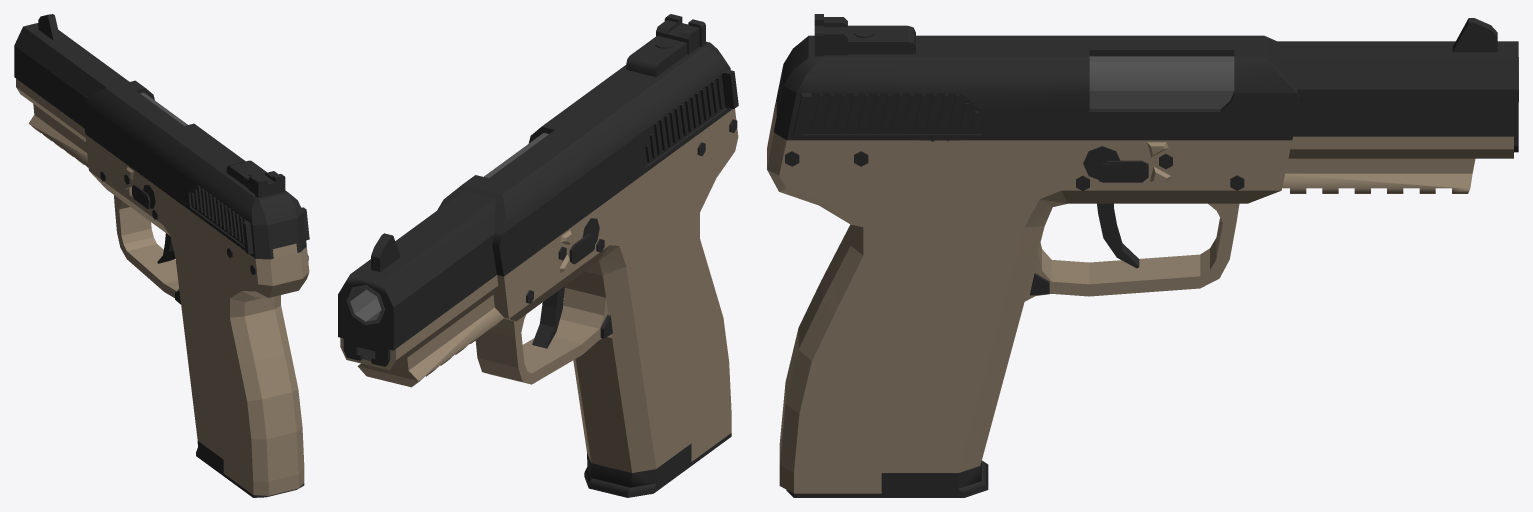
The model's file is original.glb.
3 views of the same model, side by side, from view 1: azimuth 30°, elevation 25°; view 2: azimuth 150°, elevation 25°; view 3: azimuth 270°, elevation 25° (orthographic). The views are drawn at different scales.
Visible parts, largest first — view 1: Frame, Slide, Pic_Rail, Rear_Sight, Magazine, Safety, Front_Sight; view 2: Frame, Slide, Pic_Rail, Magazine, Rear_Sight, Barrel, Trigger, Front_Sight, Safety; view 3: Frame, Slide, Barrel, Pic_Rail, Rear_Sight, Magazine, Safety, Front_Sight, Trigger.
Boxes of the visible parts, <box> form: Frame: <box>16,78,309,495</box>; Slide: <box>14,23,309,259</box>; Pic_Rail: <box>28,104,88,167</box>; Rear_Sight: <box>226,160,285,198</box>; Magazine: <box>196,441,304,497</box>; Safety: <box>132,185,155,208</box>; Front_Sight: <box>38,14,60,40</box>; Frame: <box>340,109,738,472</box>; Slide: <box>338,41,738,366</box>; Pic_Rail: <box>357,295,503,387</box>; Magazine: <box>584,433,731,497</box>; Rear_Sight: <box>626,14,705,76</box>; Barrel: <box>346,133,548,325</box>; Trigger: <box>532,286,564,348</box>; Front_Sight: <box>371,233,400,271</box>; Safety: <box>569,218,599,264</box>; Frame: <box>767,101,1513,493</box>; Slide: <box>774,35,1518,152</box>; Barrel: <box>1089,56,1518,108</box>; Pic_Rail: <box>1282,158,1475,193</box>; Rear_Sight: <box>814,14,915,56</box>; Magazine: <box>786,460,988,497</box>; Safety: <box>1083,146,1148,182</box>; Front_Sight: <box>1452,18,1497,52</box>; Trigger: <box>1097,203,1139,268</box>.
Size of the model in its own units: 0.0231 by 0.1116 by 0.1656.
Materials: 1 (1 with a texture image).
